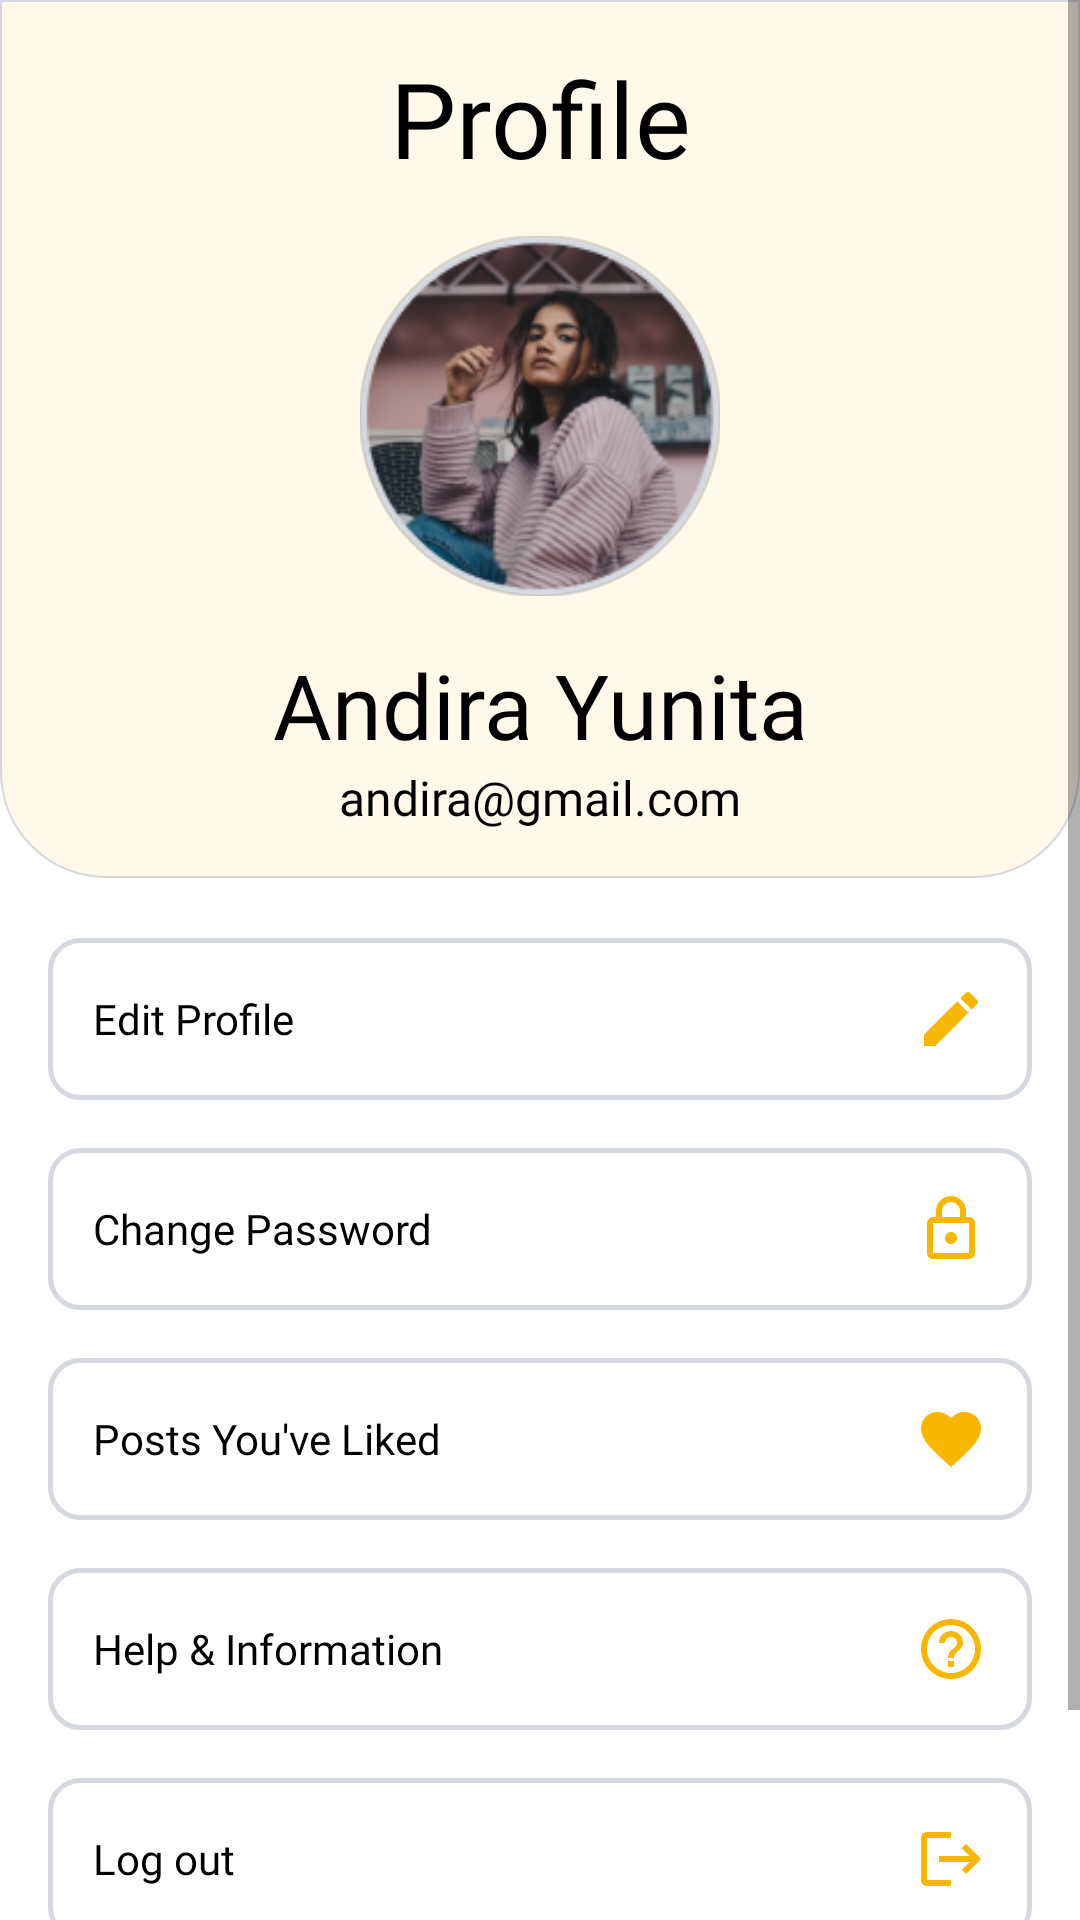

Named icons in this screenshot (1080x1920) and their centers, (x,y):
favorite full: (951,1439)
lock: (951,1227)
